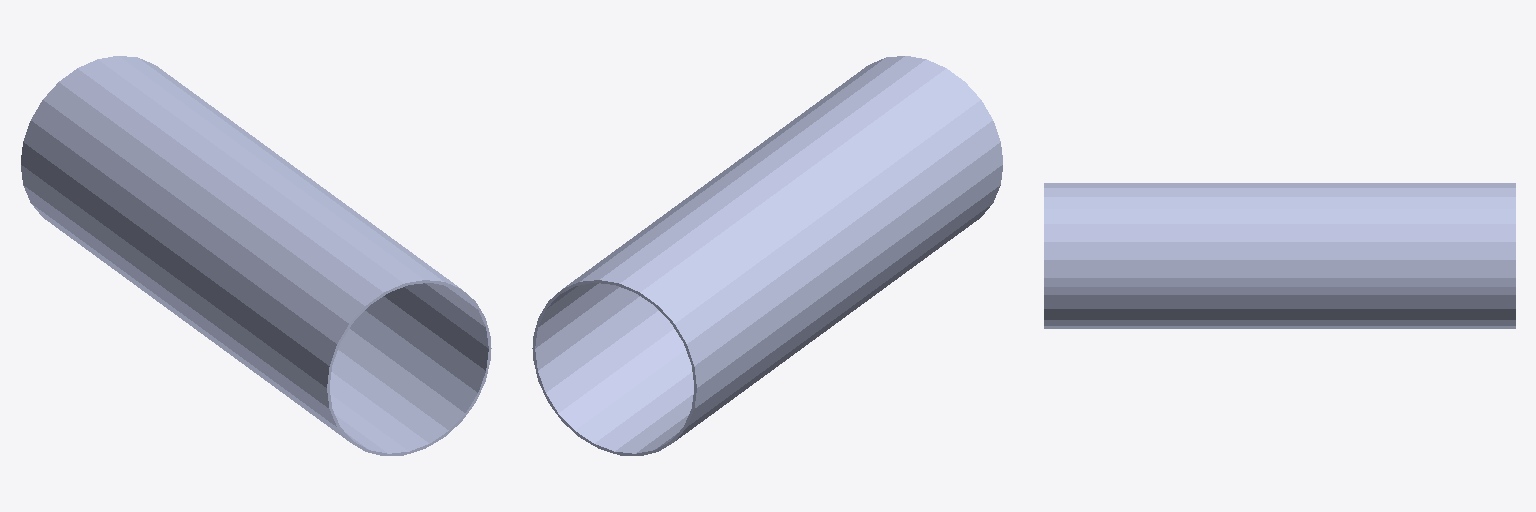
URDF robot description (pipe urdf):
<?xml version="1.0" encoding="utf-8"?>
<!-- This URDF was automatically created by SolidWorks to URDF Exporter! Originally created by [author] ([email redacted]) 
     Commit Version: 1.6.0-4-g7f85cfe  Build Version: 1.6.7995.38578
     For more information, please see http://wiki.ros.org/sw_urdf_exporter -->
<robot
  name="pipe urdf">
  <link
    name="base_link">
    <inertial>
      <origin
        xyz="8.60623177437909E-17 0 0.5"
        rpy="0 0 0" />
      <mass
        value="4.79092879672442" />
      <inertia
        ixx="0.454968556960601"
        ixy="-6.07402711978053E-33"
        ixz="0"
        iyy="0.454968556960602"
        iyz="-2.18902283302509E-32"
        izz="0.111448981133802" />
    </inertial>
    <visual>
      <origin
        xyz="0 0 0"
        rpy="0 0 0" />
      <geometry>
        <mesh
          filename="package://pipe urdf/meshes/base_link.STL" />
      </geometry>
      <material
        name="">
        <color
          rgba="0.792156862745098 0.819607843137255 0.933333333333333 1" />
      </material>
    </visual>
    <collision>
      <origin
        xyz="0 0 0"
        rpy="0 0 0" />
      <geometry>
        <mesh
          filename="package://pipe urdf/meshes/base_link.STL" />
      </geometry>
    </collision>
  </link>
</robot>

--- Render facts (derived) ---
3 views of the same robot in one strip: view 1: azimuth 30°, elevation 25°; view 2: azimuth 150°, elevation 25°; view 3: azimuth 270°, elevation 25° (orthographic).
Model pipe urdf with 1 links and 0 joints (none), rooted at base_link, posed every joint at zero.
Links seen in each view (by area): view 1: base_link; view 2: base_link; view 3: base_link.
Boxes of the visible links, <box> form: base_link: <box>21,56,491,455</box>; base_link: <box>532,56,1002,455</box>; base_link: <box>1044,183,1515,328</box>.
Bounding box of the posed robot: 0.31 × 1 × 0.3094 m (x, y, z).
1 mesh visuals loaded from 1 distinct referenced files (1 binary STL).